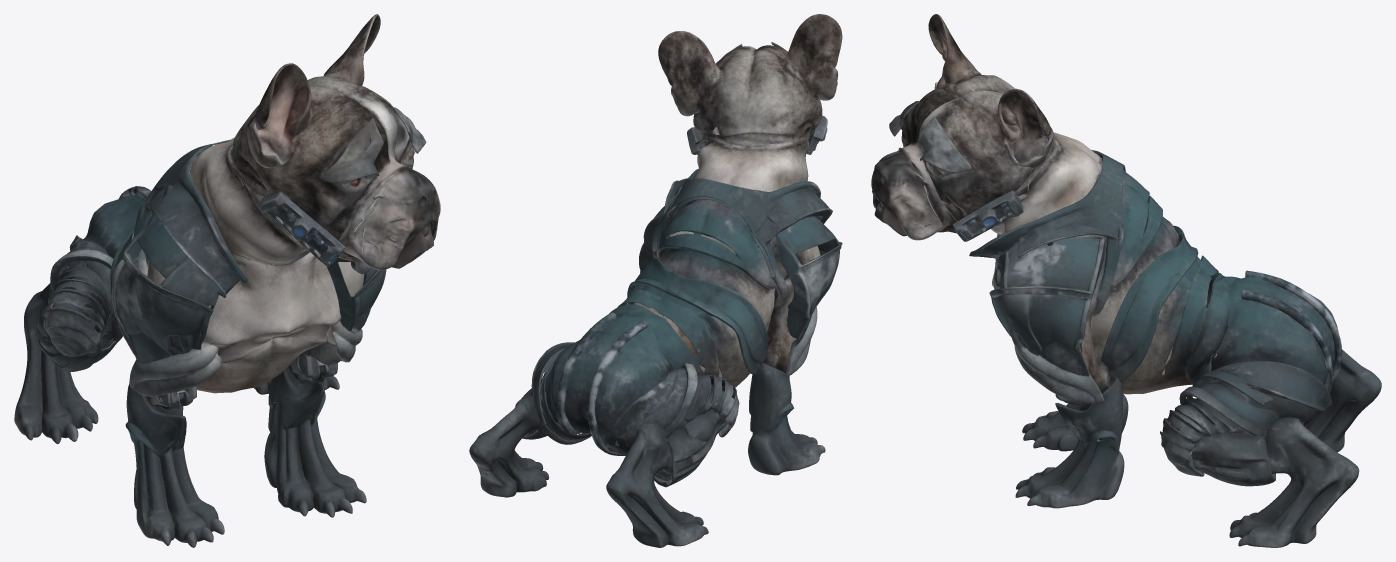
Rendered from cyber-dog-new.glb.
3 renders of one model, left to right at view 1: azimuth 30°, elevation 25°; view 2: azimuth 150°, elevation 25°; view 3: azimuth 270°, elevation 25°, orthographic. The views are drawn at different scales.
Visible parts, largest first — view 1: world; view 2: world; view 3: world.
Boxes of the visible parts, box(x1,y1,x2,y2) form: world: box(14, 14, 440, 547); world: box(469, 14, 842, 547); world: box(871, 14, 1381, 547).
Bounding box in the file's own units: 0.6093 × 0.9446 × 0.9997.
Materials: 1 (1 with a texture image).
